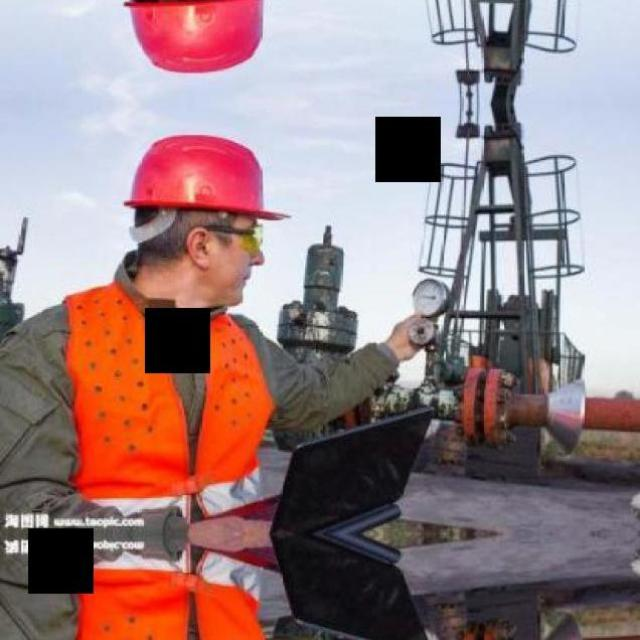red helmet: (121, 130, 304, 257)
